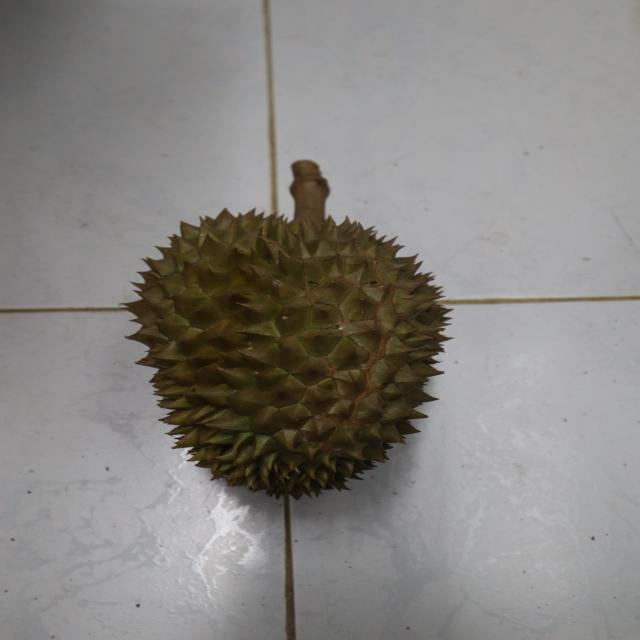mature: (122, 206, 461, 500)
